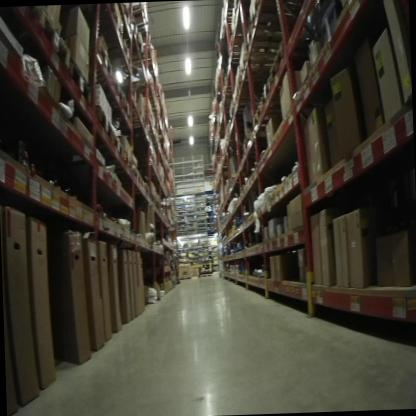pallet: (107, 95, 142, 186), (41, 9, 72, 69), (244, 26, 295, 61), (271, 39, 311, 79), (240, 52, 285, 85), (251, 98, 291, 134), (71, 63, 98, 114), (260, 72, 296, 109), (248, 0, 297, 25), (92, 32, 114, 77), (12, 7, 41, 33), (104, 72, 126, 104), (96, 101, 113, 137), (108, 126, 124, 154), (124, 148, 135, 172), (179, 275, 193, 282), (198, 273, 214, 279)
